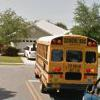Bus: (32, 32, 100, 96)
